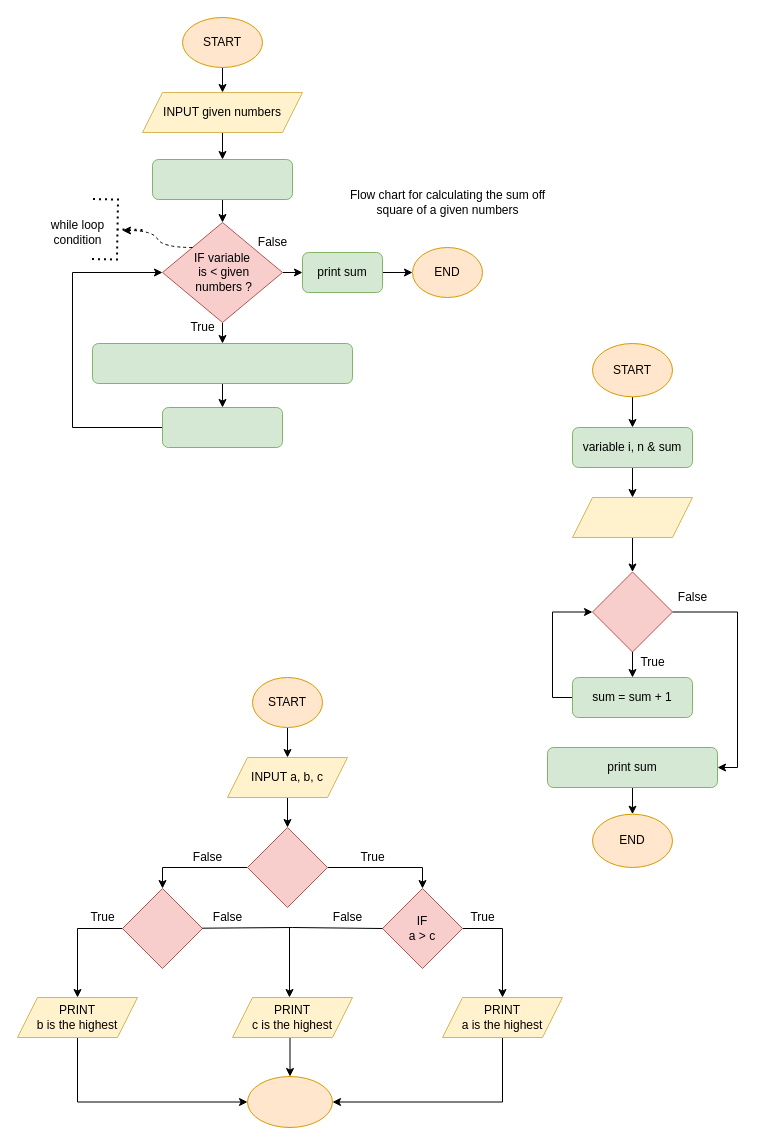
This 763x1145 diagram has some shape labels left out. Each missing label, with the centre of its shape:
"for i=1 i <= n" goes at [632,611].
"IF a > b" goes at [287,867].
"IF b > c" goes at [162,928].
"increase variable by 1" goes at [222,427].
"INITIALIZE variable = 0" goes at [222,179].
"read n" goes at [632,517].
"sqrt = numbers(variable) * numbers(variable) sum = sum + sqrt" goes at [222,363].
"STOP" goes at [289,1102].
